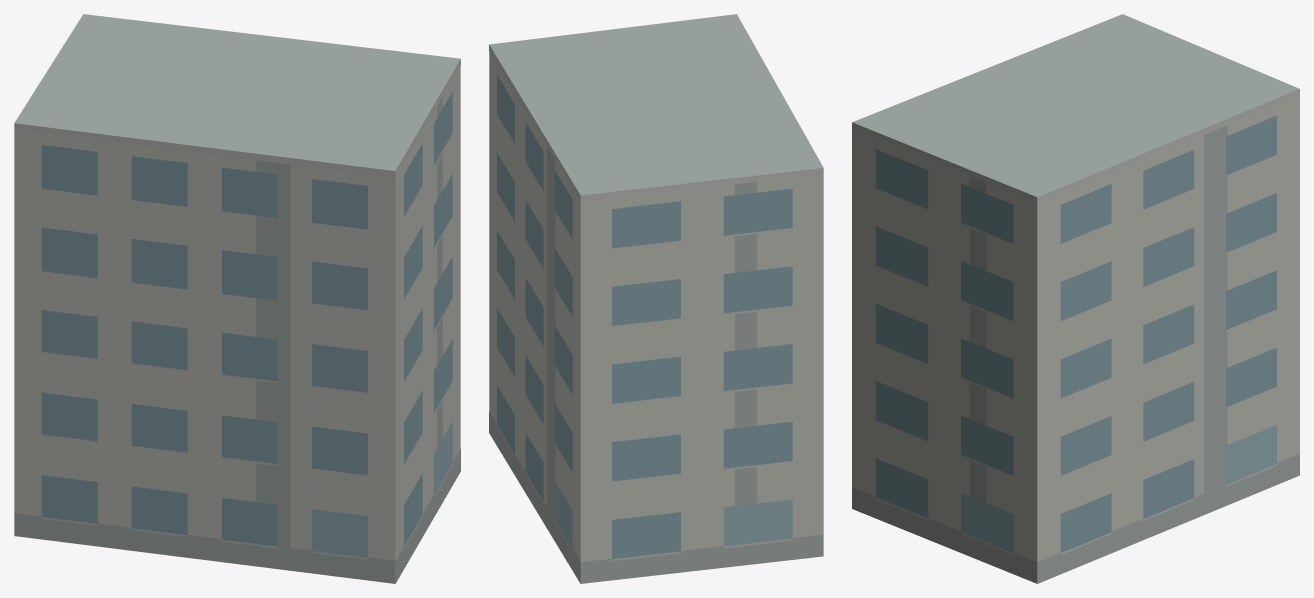
The model's file is survey-upis-32964495.glb.
The picture shows the model from 3 angles, left to right: view 1: azimuth 30°, elevation 25°; view 2: azimuth 150°, elevation 25°; view 3: azimuth 270°, elevation 25°; orthographic projection. The views are drawn at different scales.
Parts seen in each view (by area): view 1: survey-upis-32964495.tmp; view 2: survey-upis-32964495.tmp; view 3: survey-upis-32964495.tmp.
Part boxes in pixels (x1,y1,x2,y2): survey-upis-32964495.tmp: (14,14,460,583); survey-upis-32964495.tmp: (489,14,823,583); survey-upis-32964495.tmp: (852,14,1299,583).
Size of the model in its own units: 15 by 14.75 by 15.49.
